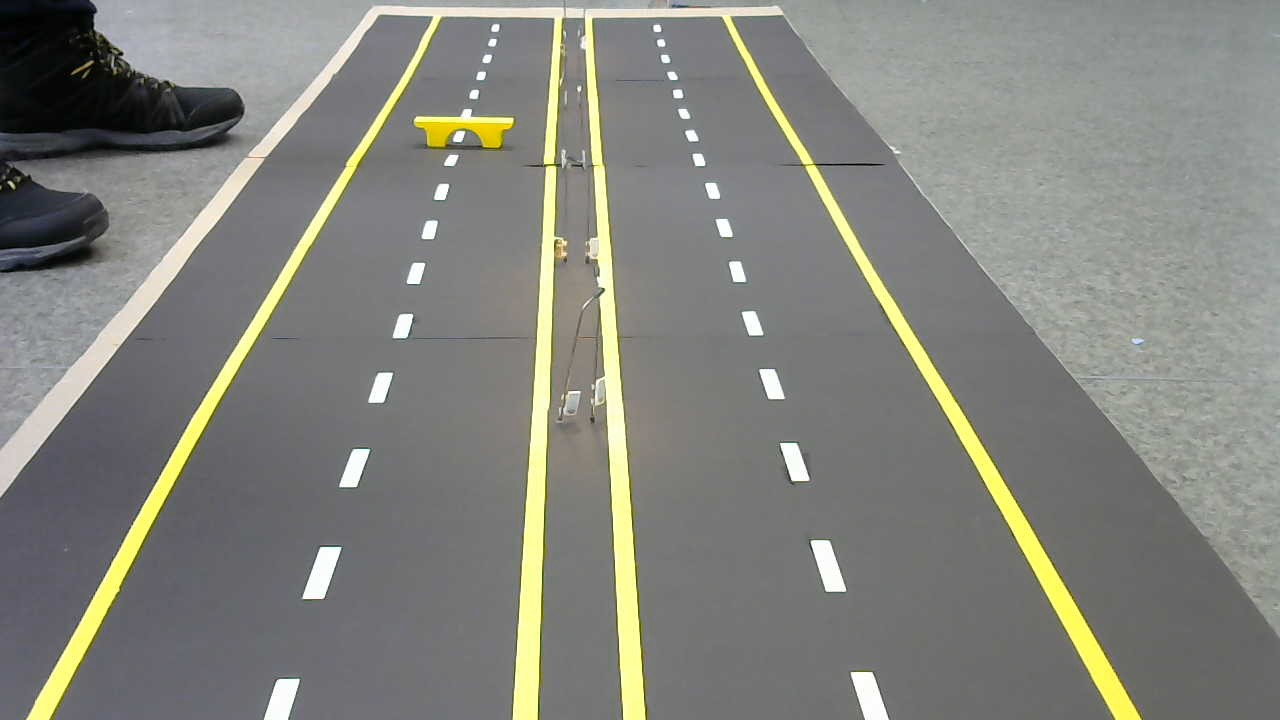emergency_situation: (408, 111, 518, 154)
